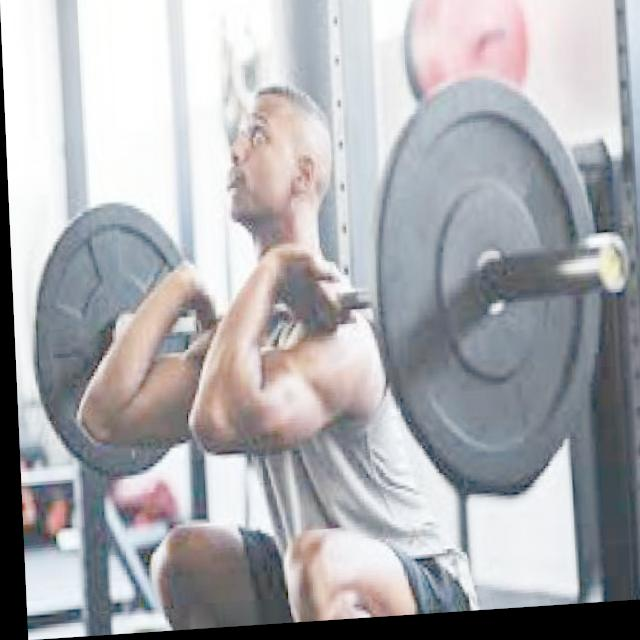barbell: (362, 73, 640, 515)
